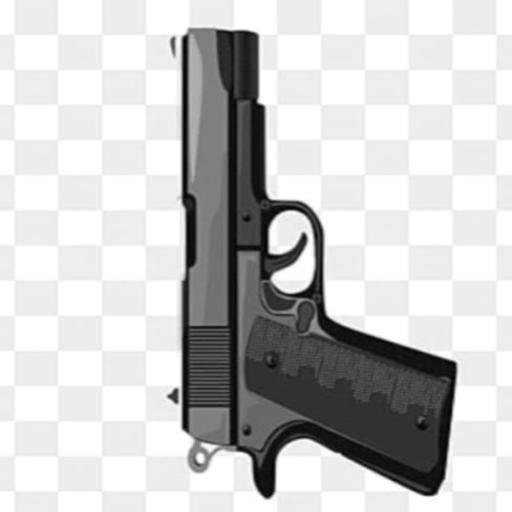Gun: (169, 29, 455, 496)
